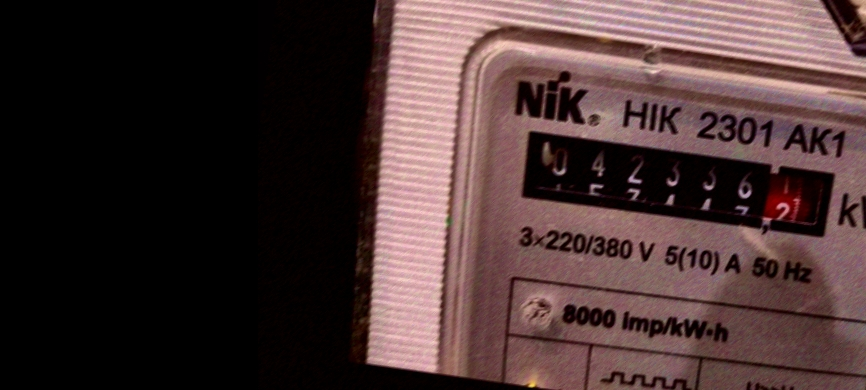0: (547, 143, 570, 178)
1: (776, 169, 792, 196)
2: (622, 149, 648, 186), (770, 199, 789, 222)
3: (659, 154, 682, 188), (698, 159, 719, 193)
4: (587, 144, 608, 178)
6: (732, 166, 757, 202)
screen: (504, 115, 848, 252)
